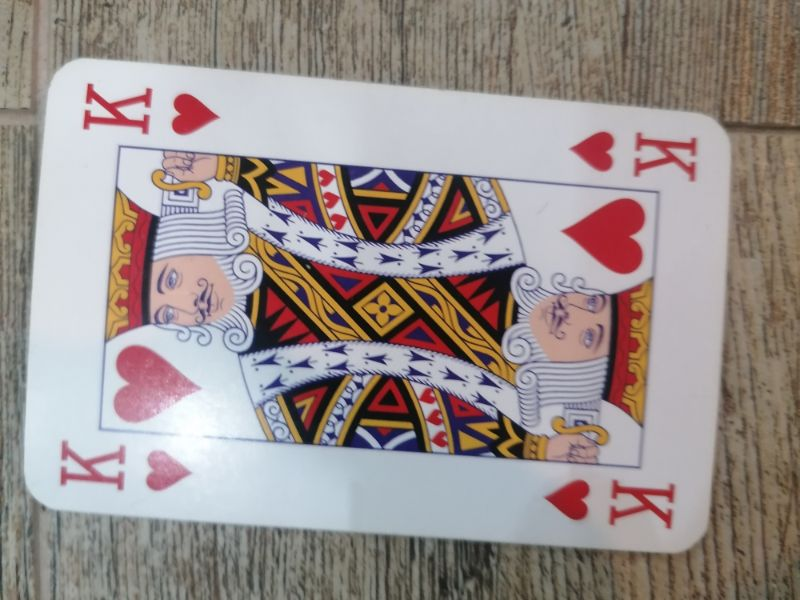Kh: (77, 79, 225, 142), (54, 437, 196, 495), (541, 474, 680, 532), (564, 127, 702, 184)
